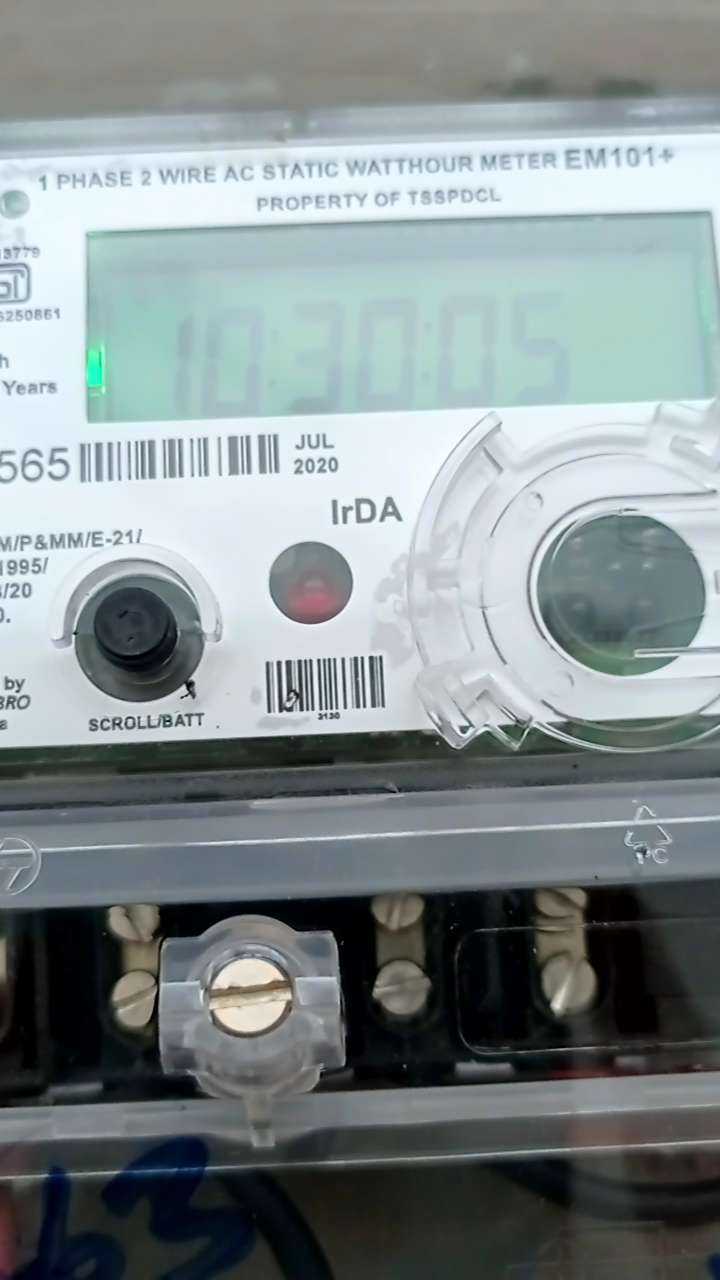meter_serial_number: (1, 437, 75, 490)
